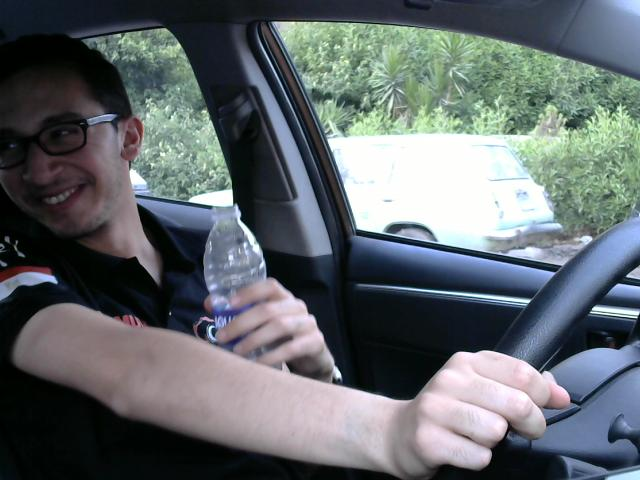Drinking: (197, 201, 285, 402)
